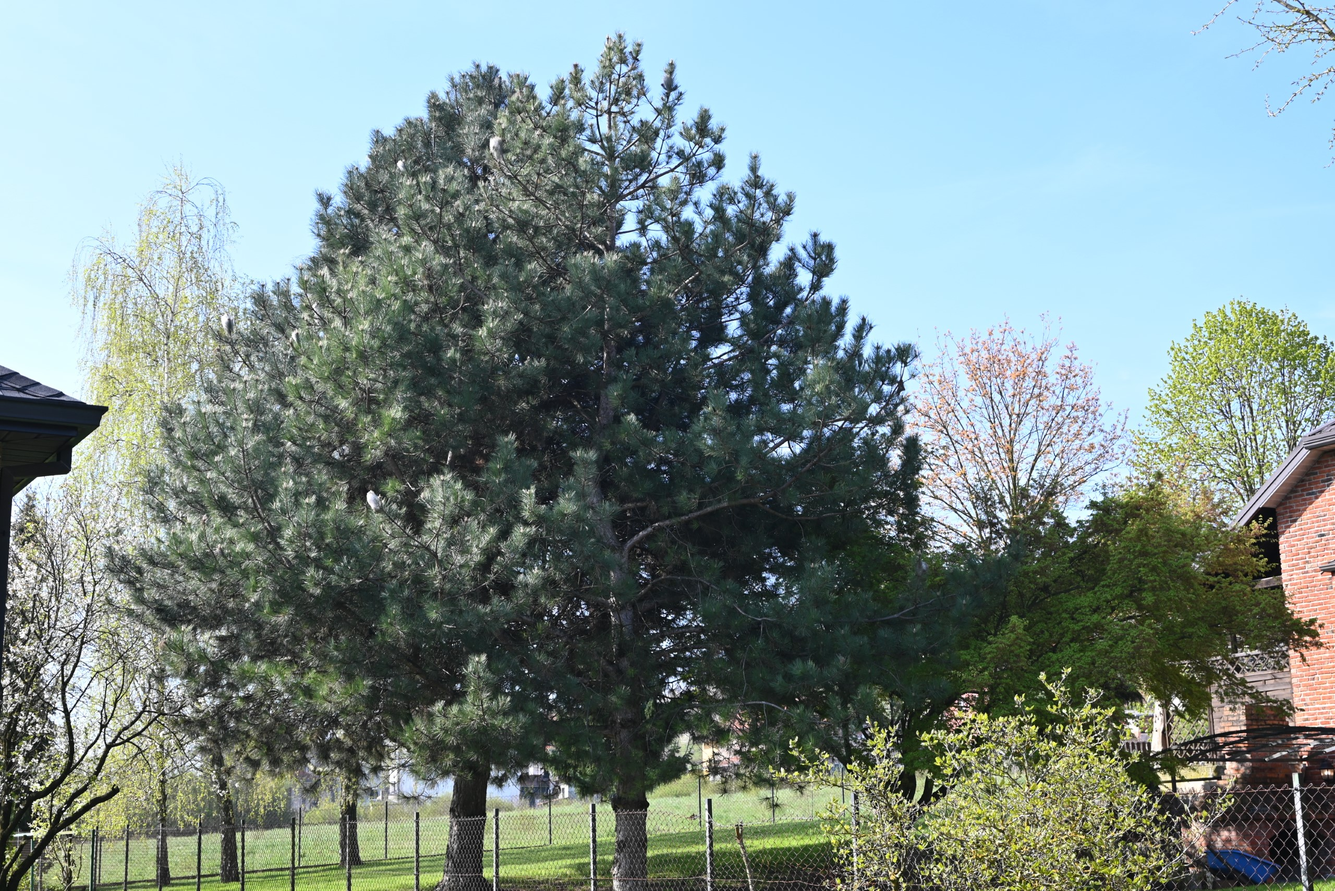thaumatopoea pityocampa jajno gnijezdo: (484, 134, 505, 155), (363, 489, 382, 511), (219, 314, 235, 332), (394, 157, 410, 172)
